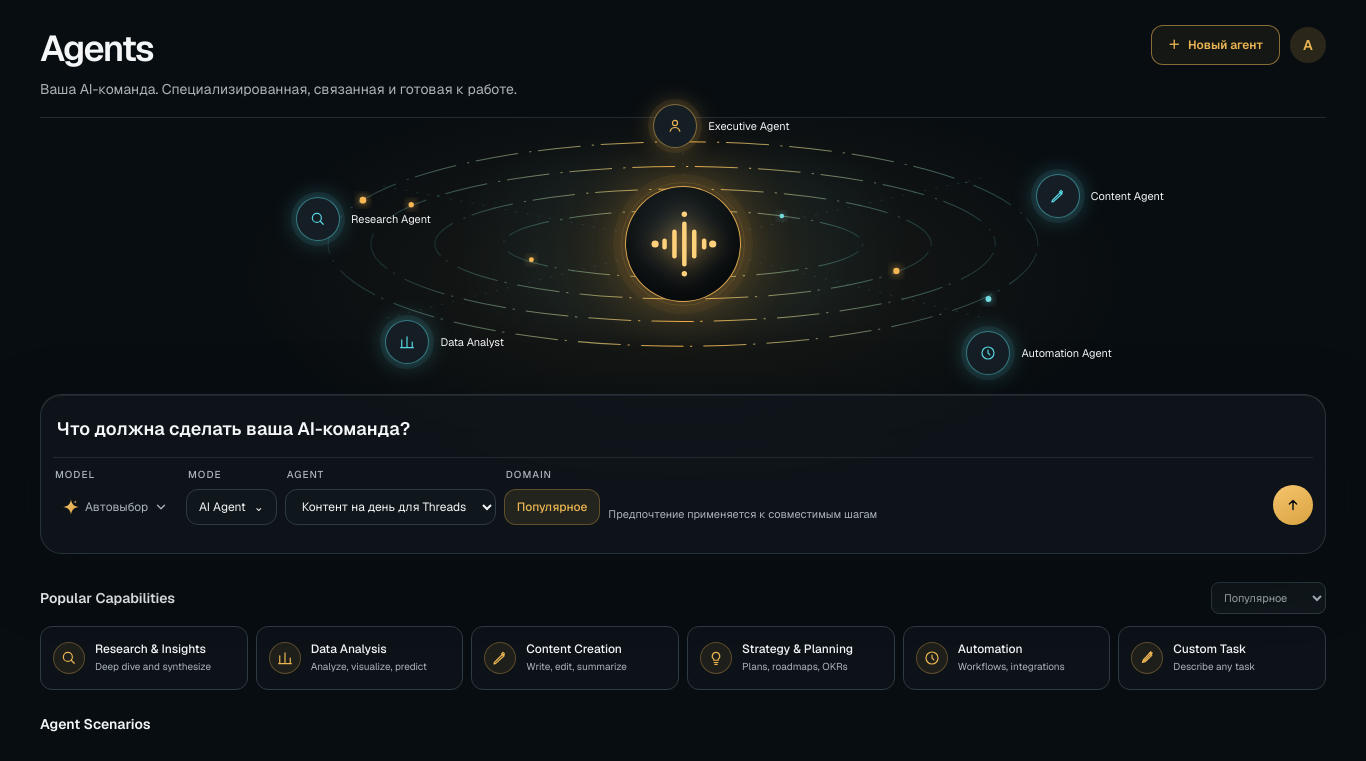
Scenario: AgentsPage › shows Код and Видео tabs and filters to their respective agents
This screenshot has width=1366, height=761.
Select "Код" in the dropdown named "Категория агентов" at (1268, 598), box [1211,582,1326,614]
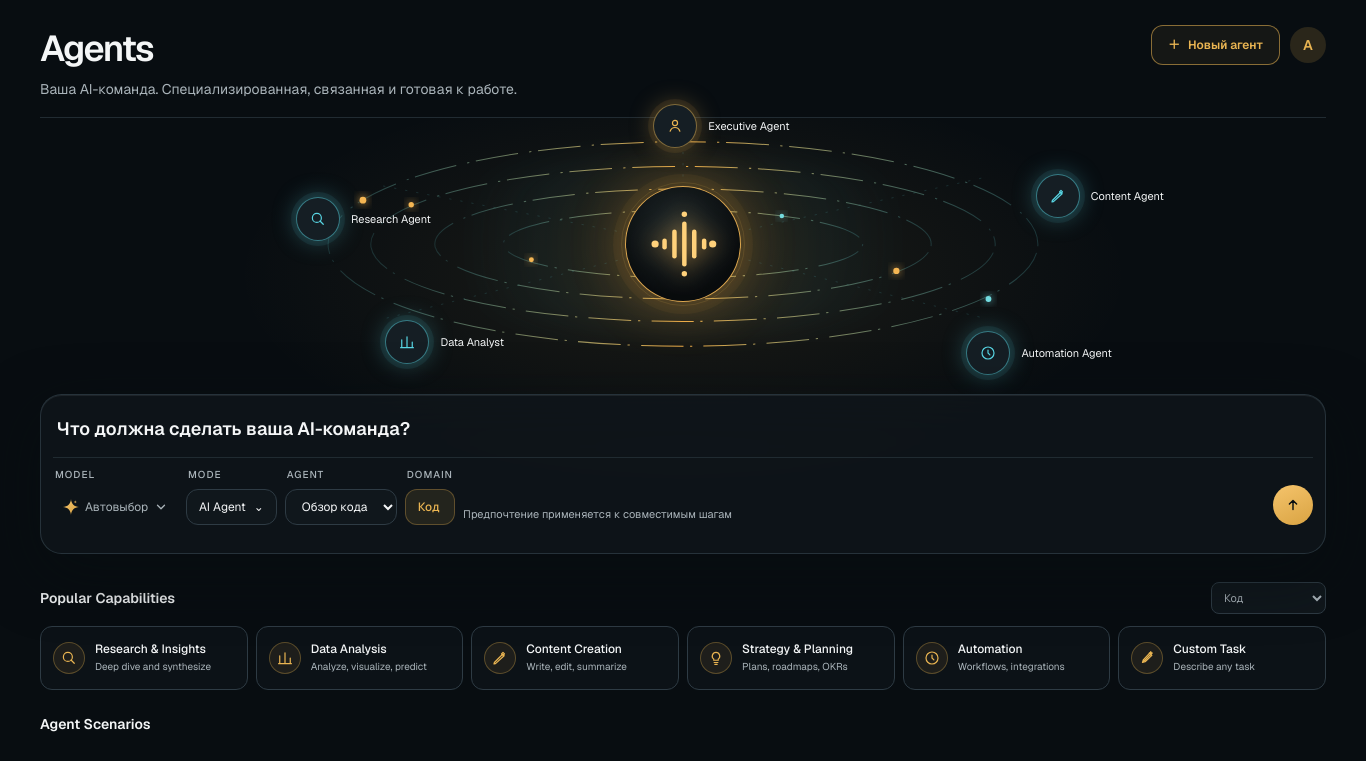
Expected: the link "Контент на день для Threads" is not shown
Expected: the link "Генератор видео-тизера" is not shown
Select "Видео" in the dropdown named "Категория агентов" at (1268, 598), box [1211,582,1326,614]
(page scrolled)
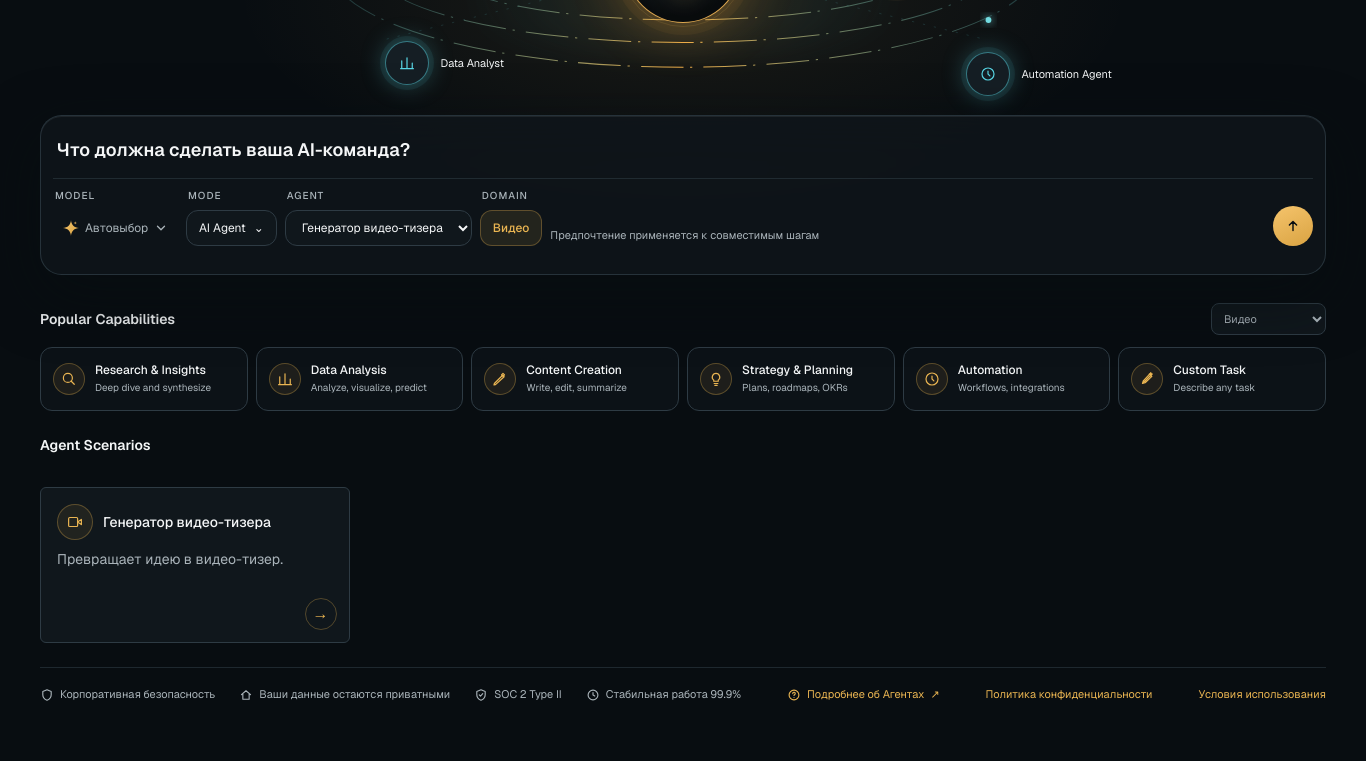
Expected: the link "Генератор видео-тизера Превращает идею в видео-тизер. →" is shown, [40,487,350,643]
